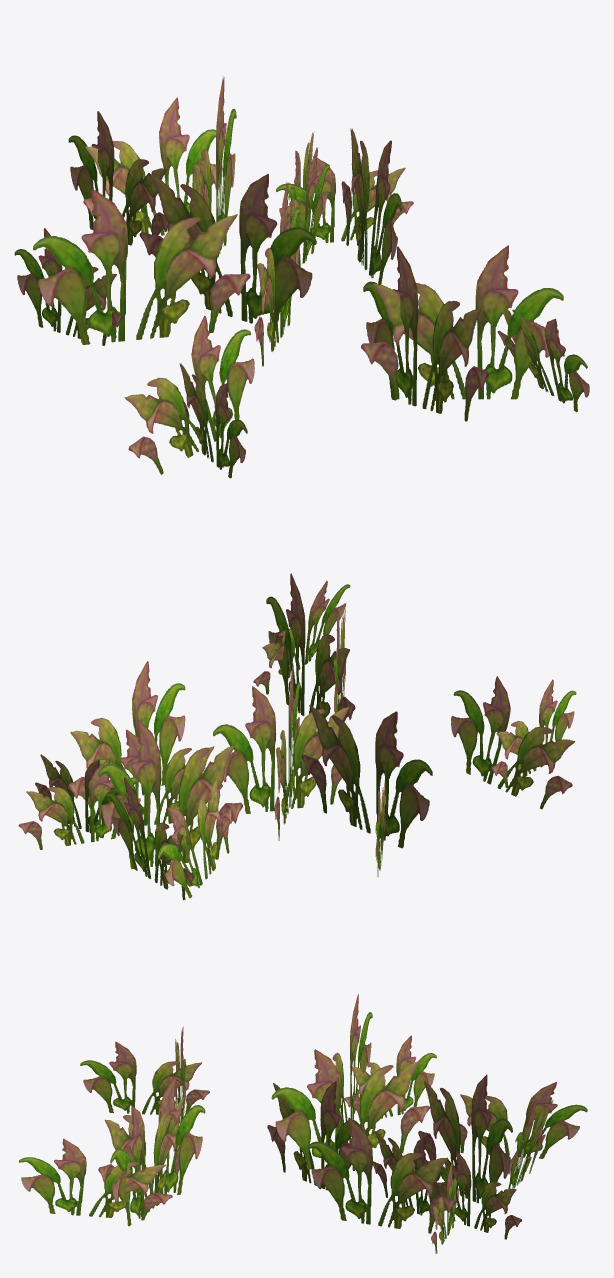
The model's file is DN_grass04e.FBX.
3 renders of one model, top to bottom at view 1: azimuth 30°, elevation 25°; view 2: azimuth 150°, elevation 25°; view 3: azimuth 270°, elevation 25°, orthographic. The views are drawn at different scales.
Parts seen in each view (by area): view 1: DN_grass04e; view 2: DN_grass04e; view 3: DN_grass04e.
Part boxes in pixels (bbox=[...]): DN_grass04e: bbox=[14, 76, 589, 478]; DN_grass04e: bbox=[18, 573, 576, 899]; DN_grass04e: bbox=[19, 994, 587, 1253].
Bounding box in the file's own units: 100 × 46.7 × 135.
